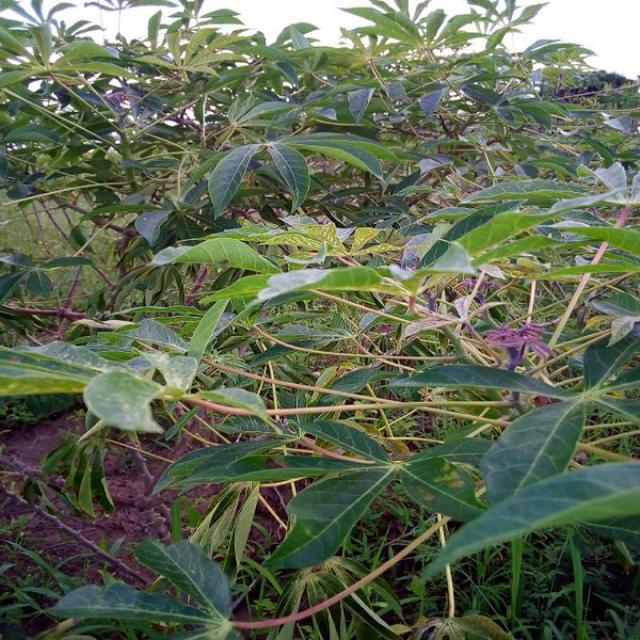cassava leaf: (420, 459, 640, 582), (83, 368, 167, 435)
